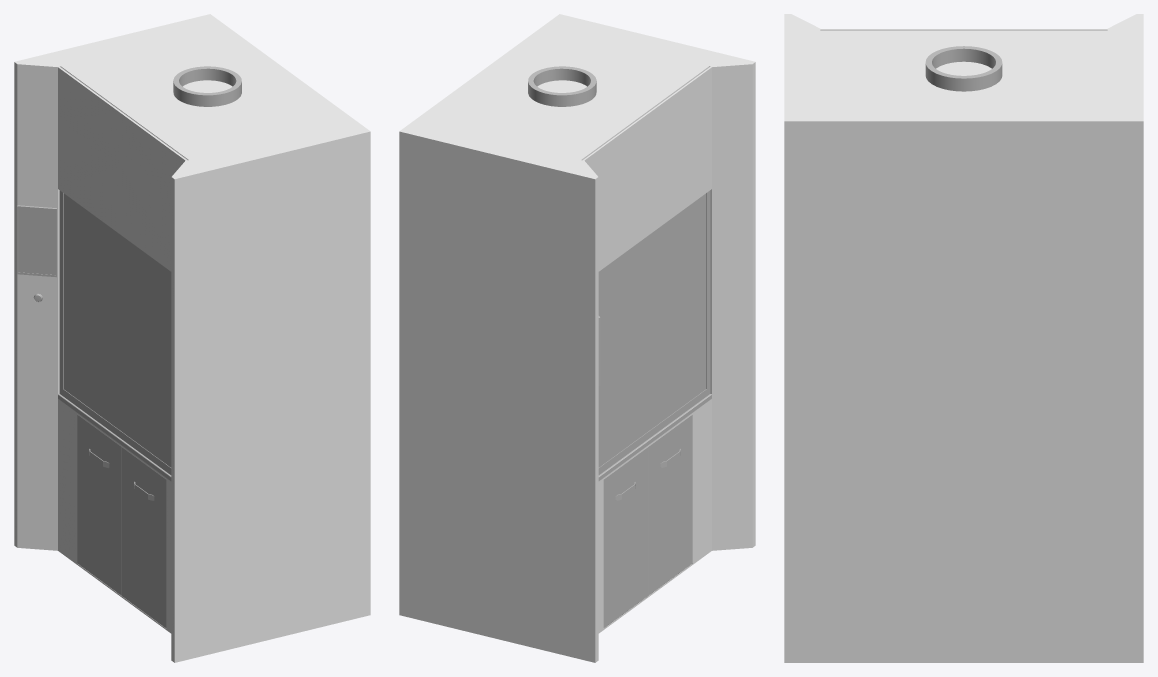
Rendered from FumesBox.fbx.
The picture shows the model from 3 angles, left to right: view 1: azimuth 30°, elevation 25°; view 2: azimuth 150°, elevation 25°; view 3: azimuth 270°, elevation 25°; orthographic projection. The views are drawn at different scales.
Visible parts, largest first — view 1: body, glass, door left, door right, screen, frame, air out, mesa; view 2: body, glass, door right, door left, frame, air out, mesa; view 3: body, air out.
Boxes of the visible parts, x1,y1,x2,y2 form: body: (14, 14, 370, 662); glass: (63, 193, 171, 467); door left: (77, 414, 121, 595); door right: (122, 447, 166, 627); screen: (18, 208, 55, 274); frame: (59, 67, 187, 474); air out: (173, 66, 241, 106); mesa: (58, 394, 171, 480); body: (399, 14, 755, 662); glass: (598, 193, 706, 467); door right: (648, 414, 692, 595); door left: (603, 447, 647, 627); frame: (582, 67, 710, 474); air out: (528, 66, 596, 106); mesa: (598, 394, 711, 480); body: (784, 14, 1143, 662); air out: (925, 46, 1002, 91).
Size of the model in its own units: 1.3 by 3.12 by 1.83.
Materials: 8 (1 with a texture image).
